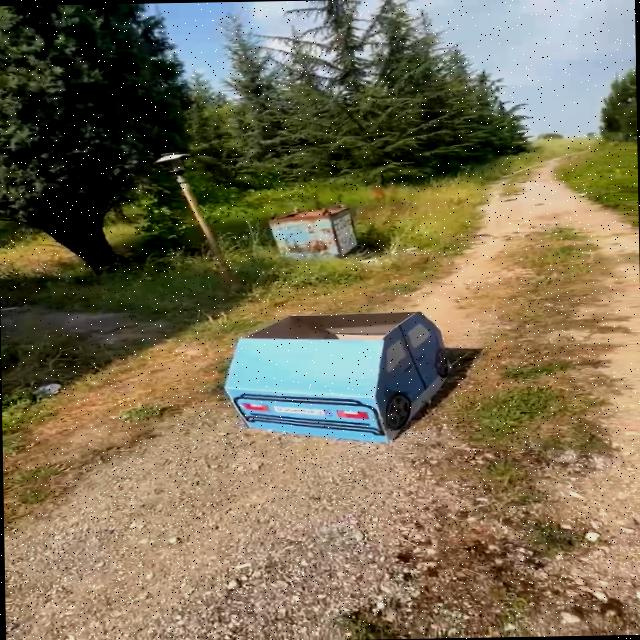blue_car: (197, 282, 487, 451)
